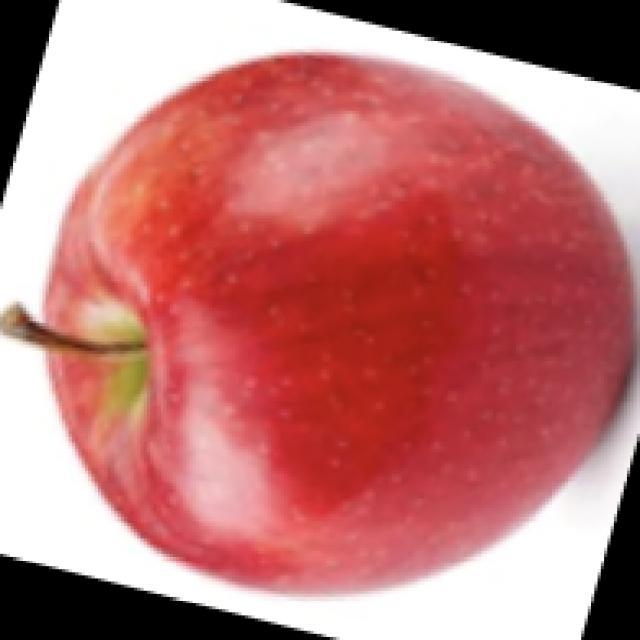Fresh Apple: (56, 63, 640, 603)
